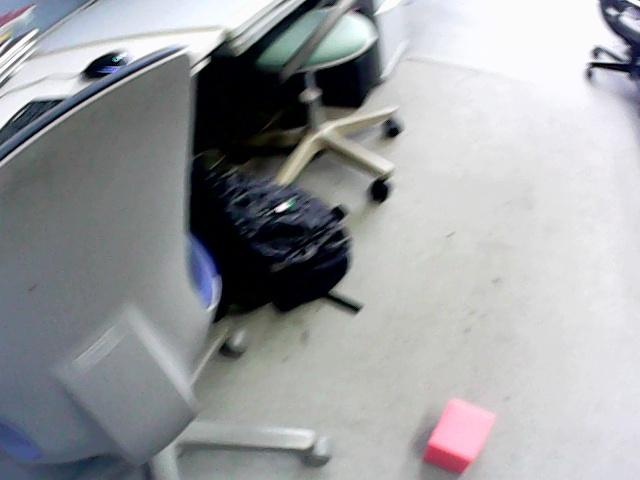red_block: (424, 399, 494, 472)
